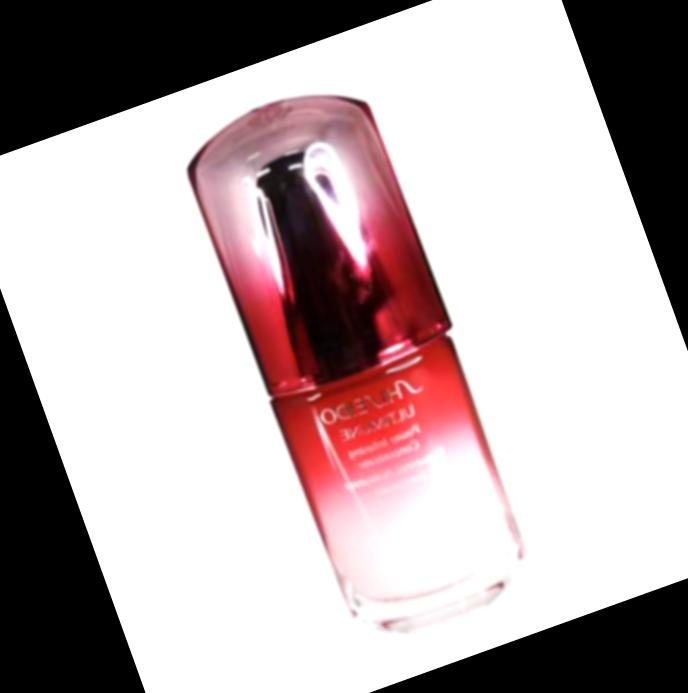cosmetic: (168, 65, 547, 653)
